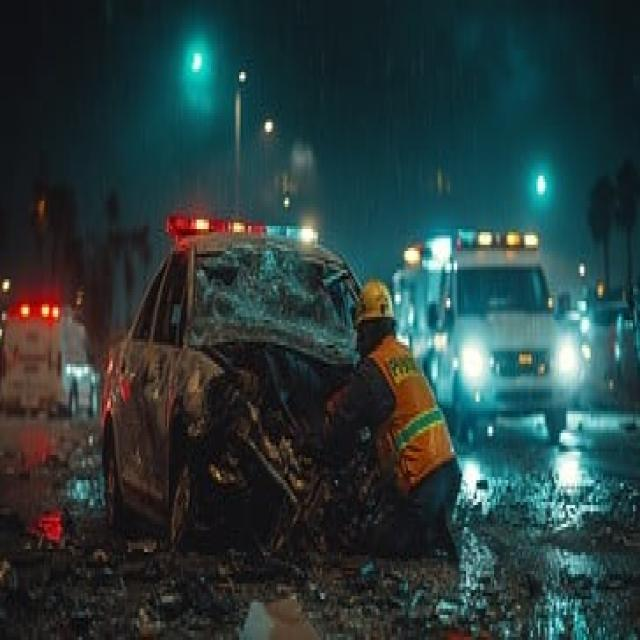Accident: (98, 214, 439, 567)
